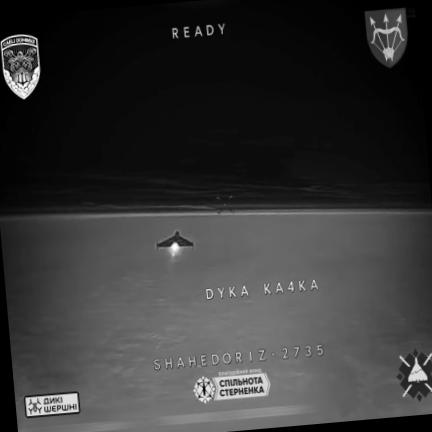Shahed: (156, 231, 194, 255)
